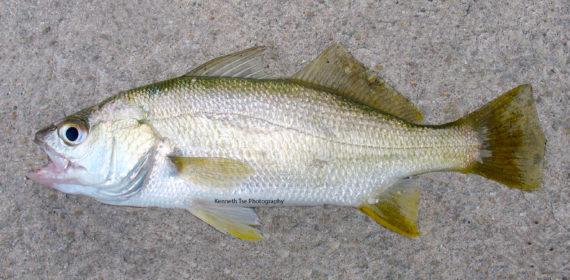Silver Perch: (26, 42, 548, 242)
